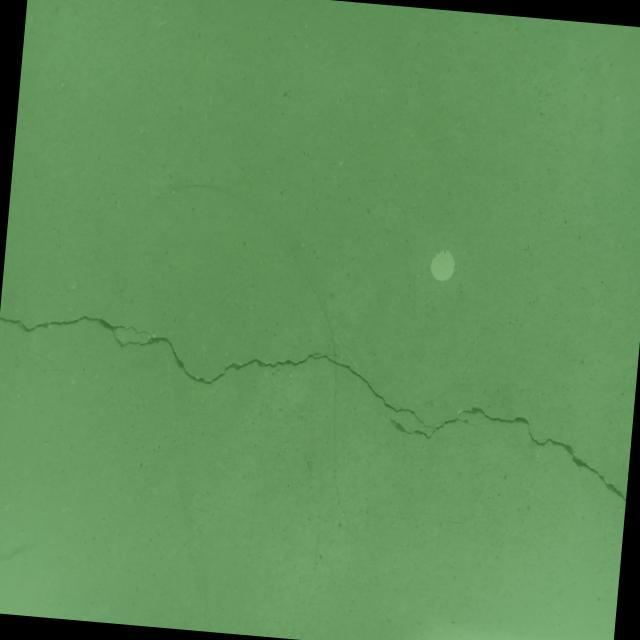crack: (0, 306, 637, 503)
